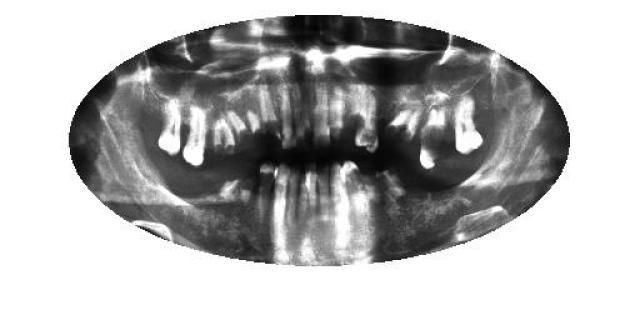Cavity: (419, 106, 449, 169), (259, 80, 281, 150), (387, 108, 422, 146), (256, 161, 276, 224), (296, 86, 314, 144), (226, 109, 252, 146), (239, 164, 255, 208), (220, 172, 241, 200), (211, 115, 224, 160), (220, 122, 236, 158), (245, 108, 261, 144)
